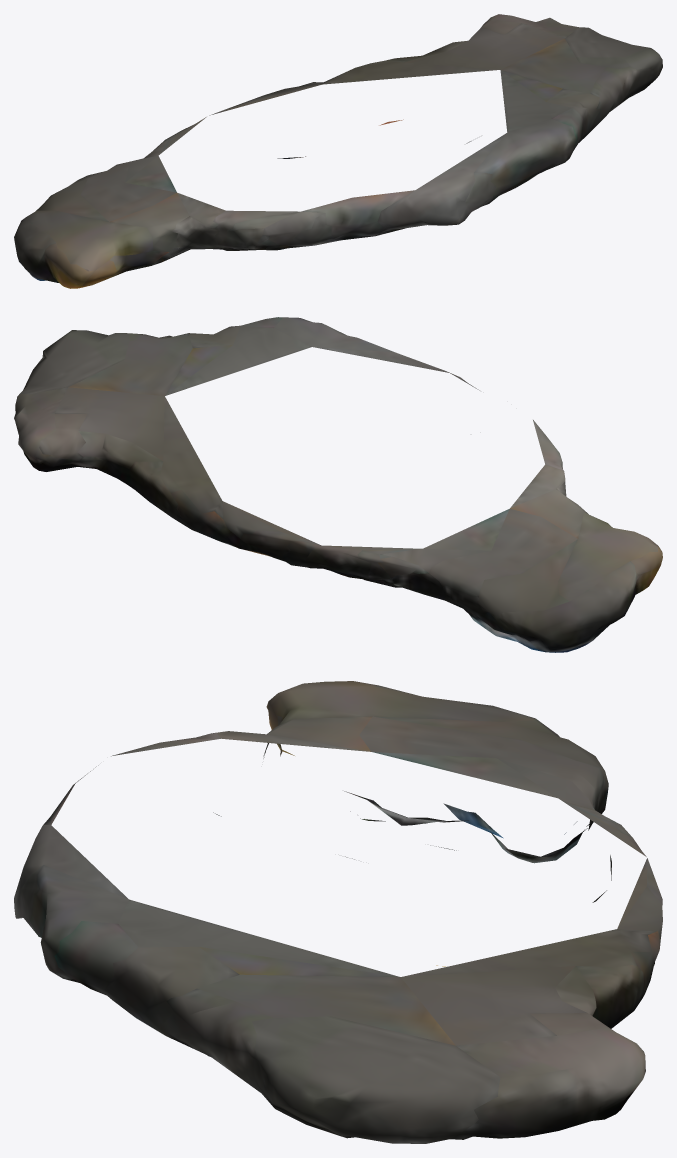
Rendered from hall.glb.
3 views of the same model, one above another, from view 1: azimuth 30°, elevation 25°; view 2: azimuth 150°, elevation 25°; view 3: azimuth 270°, elevation 25° (orthographic). The views are drawn at different scales.
Bounding box in the file's own units: 0.8596 × 0.1918 × 0.451.
Materials: 1 (1 with a texture image).
